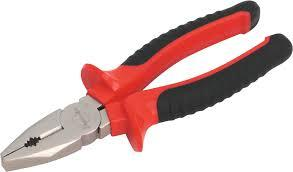pliers: (0, 0, 292, 170)
